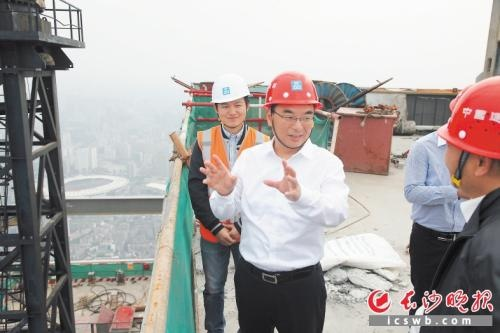red: (442, 75, 500, 193), (263, 70, 318, 151)
white: (210, 76, 252, 129)
